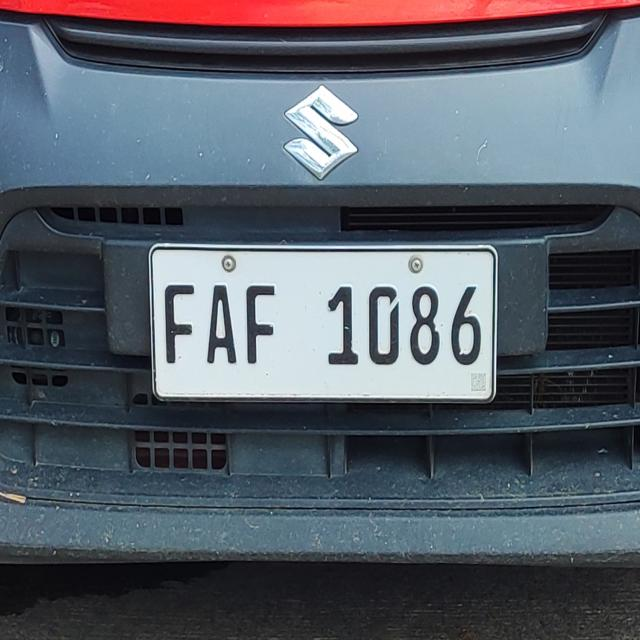plate: (148, 242, 500, 406)
